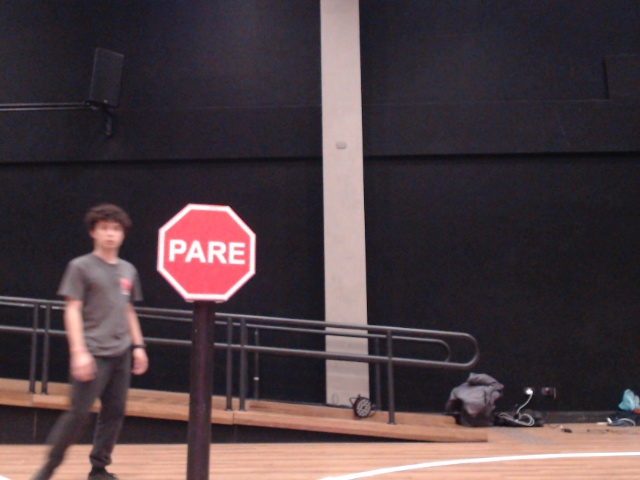SEMAFORO: (145, 192, 286, 322)
